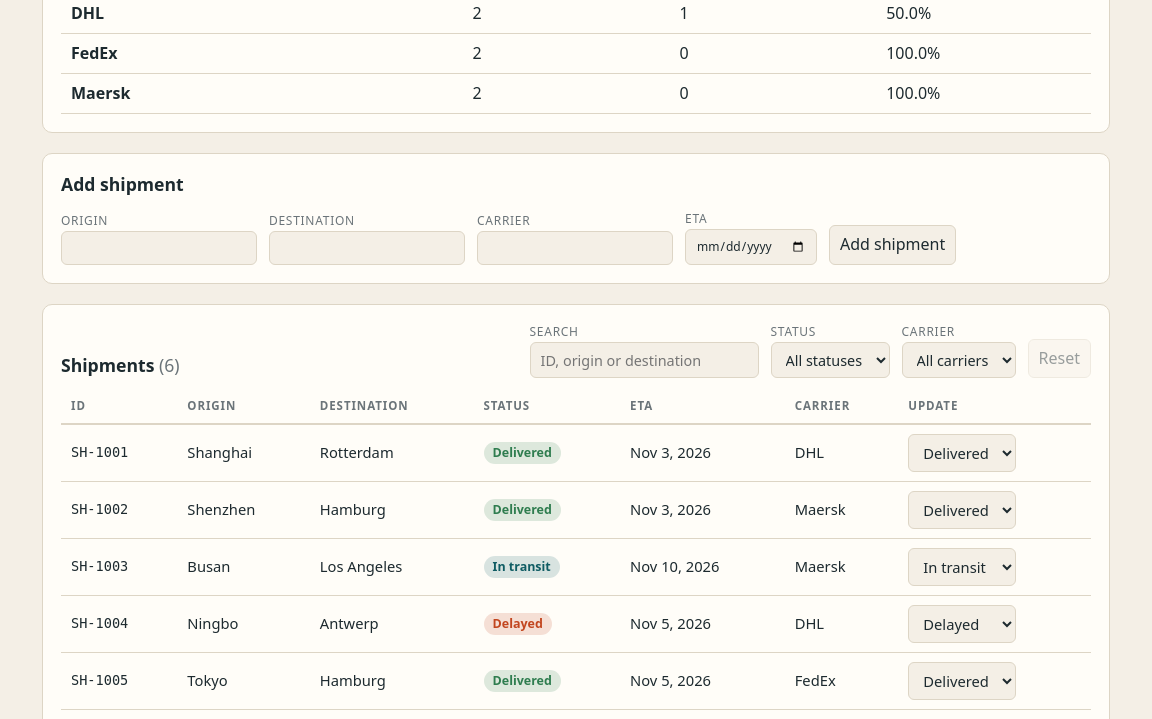
Test: App › shows an empty-state message when filters match nothing
The width and height of the screenshot is (1152, 719).
(page scrolled)
Expected: the text "SH-1001" is shown, [61,424,177,481]
Select "Delayed" in the dropdown labelled "Status" at coordinates (830, 360), box [770,342,890,378]
(page scrolled)
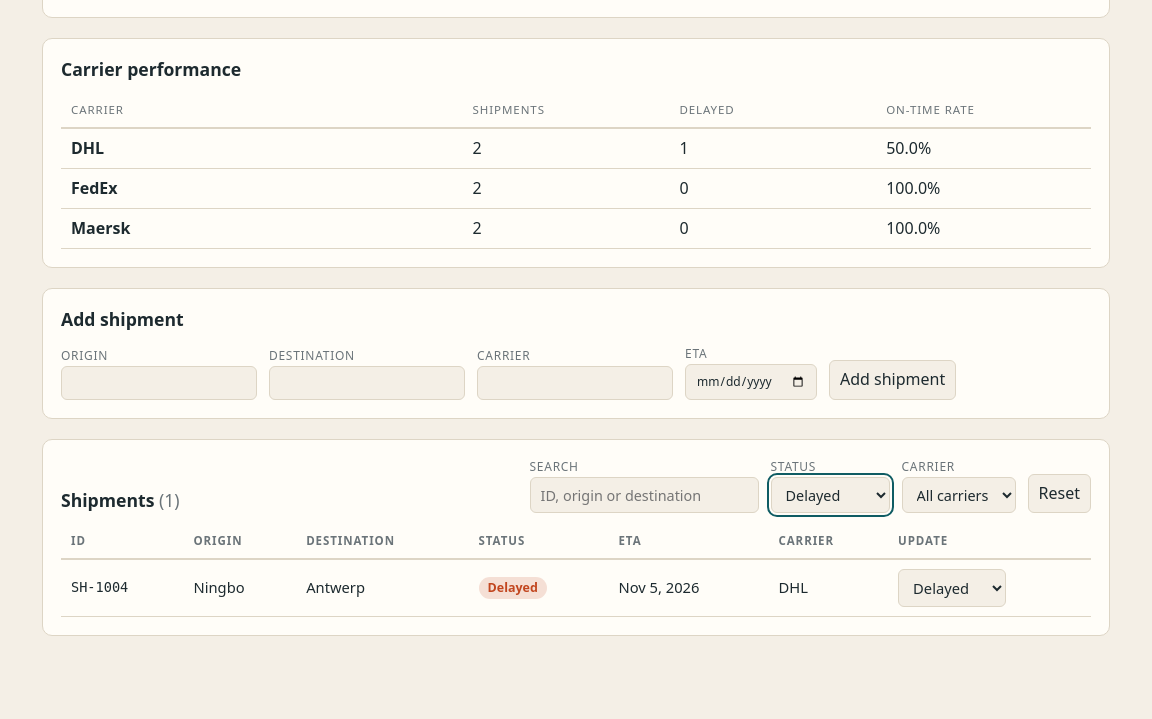
Select "Maersk" in the dropdown labelled "Carrier" at coordinates (958, 495), box [902,477,1016,513]
(page scrolled)
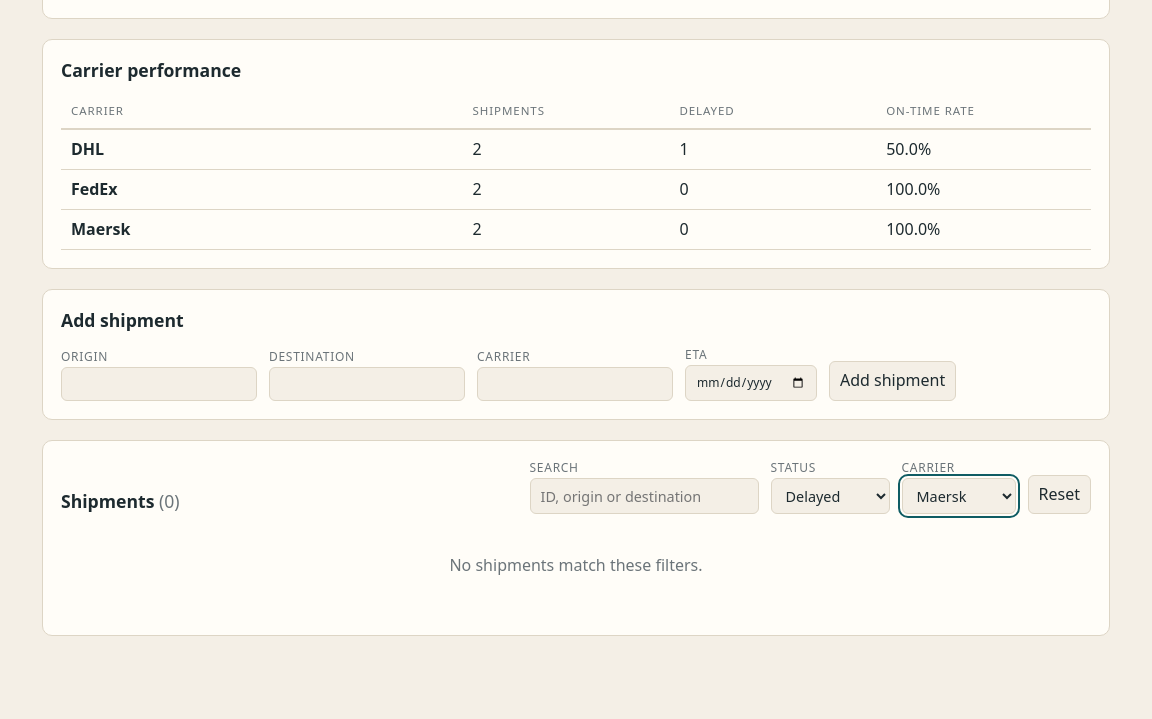
Now the text "No shipments match these filters." is shown, box [450,554,703,576]
